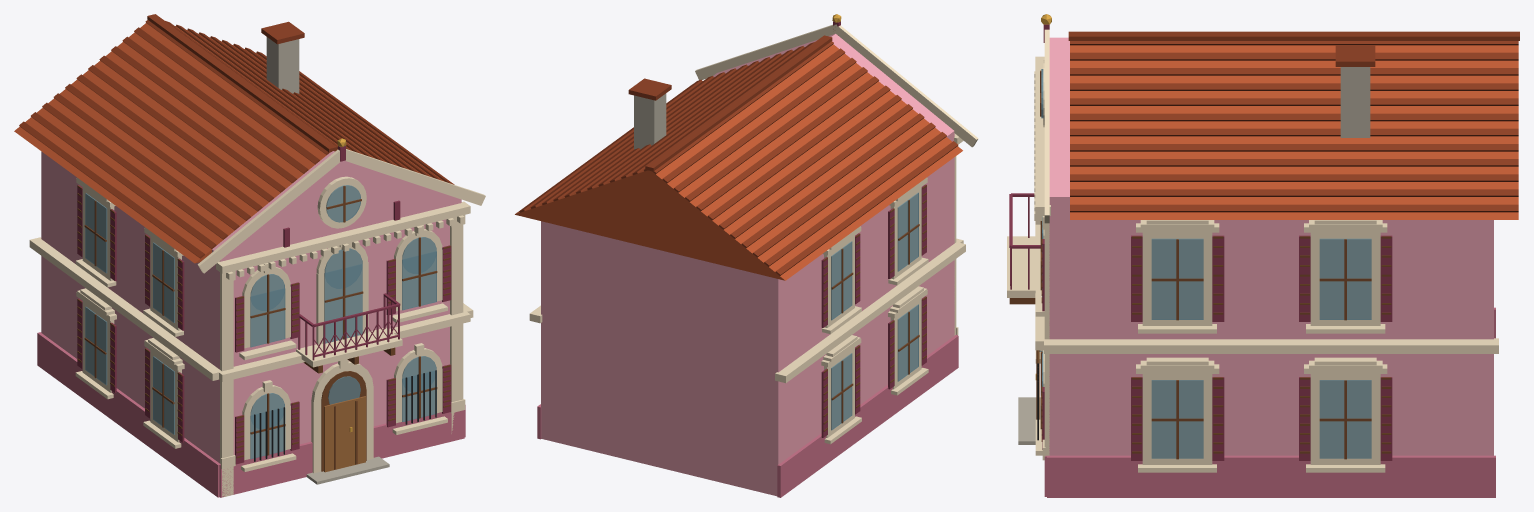
File: casa-rosa-hastial.glb
3 views of the same model, side by side, from view 1: azimuth 30°, elevation 25°; view 2: azimuth 150°, elevation 25°; view 3: azimuth 270°, elevation 25° (orthographic). The views are drawn at different scales.
Parts seen in each view (by area): view 1: Casa_Rosa_Hastial_Crema, Casa_Rosa_Hastial_MuroRosa, Casa_Rosa_Hastial_TejaOscura, Casa_Rosa_Hastial_Teja, Casa_Rosa_Hastial_Vidrio, Casa_Rosa_Hastial_ZocaloRosa, Casa_Rosa_Hastial_Vino, Casa_Rosa_Hastial_Madera, Casa_Rosa_Hastial_MaderaClara, Casa_Rosa_Hastial_Piedra, Casa_Rosa_Hastial_Hierro; view 2: Casa_Rosa_Hastial_MuroRosa, Casa_Rosa_Hastial_Teja, Casa_Rosa_Hastial_TejaOscura, Casa_Rosa_Hastial_Crema, Casa_Rosa_Hastial_ZocaloRosa, Casa_Rosa_Hastial_Vidrio, Casa_Rosa_Hastial_Vino, Casa_Rosa_Hastial_Madera, Casa_Rosa_Hastial_Piedra; view 3: Casa_Rosa_Hastial_MuroRosa, Casa_Rosa_Hastial_TejaOscura, Casa_Rosa_Hastial_Crema, Casa_Rosa_Hastial_Teja, Casa_Rosa_Hastial_ZocaloRosa, Casa_Rosa_Hastial_Vidrio, Casa_Rosa_Hastial_Vino, Casa_Rosa_Hastial_Madera, Casa_Rosa_Hastial_Piedra.
Part boxes in pixels (x1=…): Casa_Rosa_Hastial_Crema: x1=29, y1=149, x2=485, y2=497; Casa_Rosa_Hastial_MuroRosa: x1=41, y1=151, x2=461, y2=463; Casa_Rosa_Hastial_TejaOscura: x1=19, y1=14, x2=454, y2=258; Casa_Rosa_Hastial_Teja: x1=14, y1=23, x2=451, y2=263; Casa_Rosa_Hastial_Vidrio: x1=85, y1=185, x2=436, y2=458; Casa_Rosa_Hastial_ZocaloRosa: x1=37, y1=332, x2=465, y2=497; Casa_Rosa_Hastial_Vino: x1=77, y1=146, x2=451, y2=464; Casa_Rosa_Hastial_Madera: x1=77, y1=185, x2=450, y2=471; Casa_Rosa_Hastial_MaderaClara: x1=324, y1=396, x2=365, y2=472; Casa_Rosa_Hastial_Piedra: x1=266, y1=37, x2=389, y2=484; Casa_Rosa_Hastial_Hierro: x1=254, y1=370, x2=436, y2=461; Casa_Rosa_Hastial_MuroRosa: x1=541, y1=33, x2=954, y2=496; Casa_Rosa_Hastial_Teja: x1=515, y1=44, x2=962, y2=280; Casa_Rosa_Hastial_TejaOscura: x1=519, y1=35, x2=957, y2=275; Casa_Rosa_Hastial_Crema: x1=529, y1=24, x2=978, y2=444; Casa_Rosa_Hastial_ZocaloRosa: x1=537, y1=335, x2=958, y2=497; Casa_Rosa_Hastial_Vidrio: x1=831, y1=192, x2=918, y2=430; Casa_Rosa_Hastial_Vino: x1=821, y1=21, x2=926, y2=437; Casa_Rosa_Hastial_Madera: x1=823, y1=185, x2=926, y2=431; Casa_Rosa_Hastial_Piedra: x1=634, y1=93, x2=666, y2=149; Casa_Rosa_Hastial_MuroRosa: x1=1049, y1=37, x2=1493, y2=455; Casa_Rosa_Hastial_TejaOscura: x1=1068, y1=31, x2=1519, y2=212; Casa_Rosa_Hastial_Crema: x1=1007, y1=29, x2=1498, y2=472; Casa_Rosa_Hastial_Teja: x1=1070, y1=45, x2=1518, y2=219; Casa_Rosa_Hastial_ZocaloRosa: x1=1044, y1=307, x2=1495, y2=497; Casa_Rosa_Hastial_Vidrio: x1=1039, y1=69, x2=1371, y2=458; Casa_Rosa_Hastial_Vino: x1=1009, y1=24, x2=1392, y2=460; Casa_Rosa_Hastial_Madera: x1=1009, y1=70, x2=1391, y2=459; Casa_Rosa_Hastial_Piedra: x1=1018, y1=67, x2=1370, y2=444.
Size of the model in its own units: 8.31 by 9.14 by 10.37.
